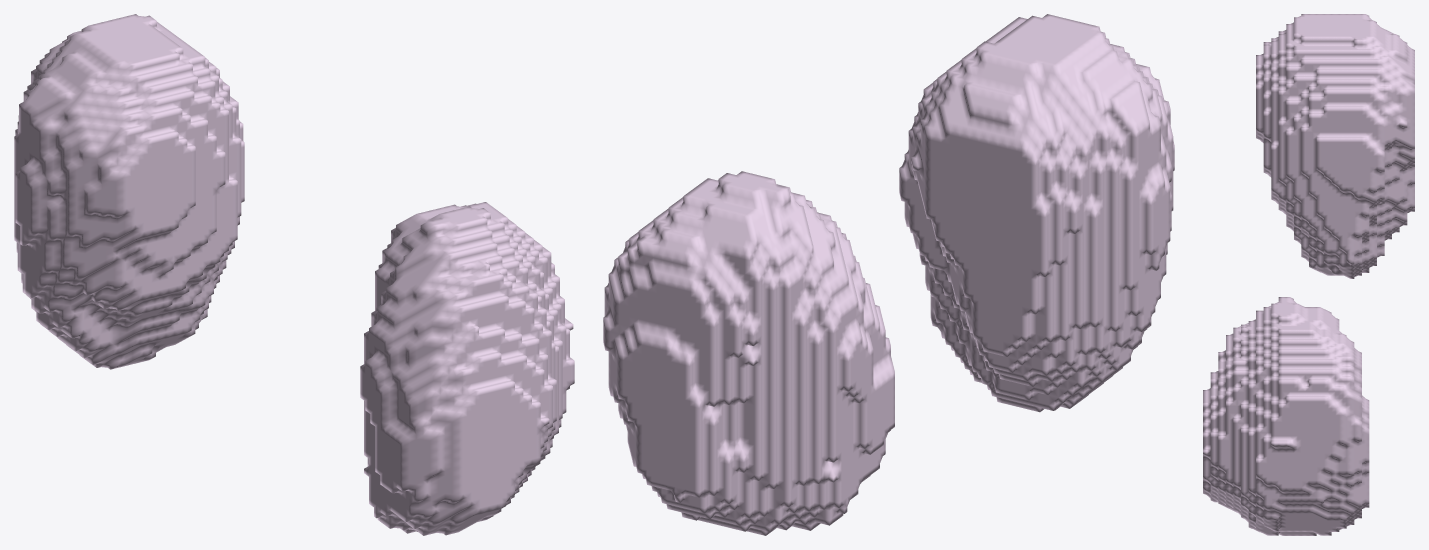
Rendered from region-14.glb.
The picture shows the model from 3 angles, left to right: view 1: azimuth 30°, elevation 25°; view 2: azimuth 150°, elevation 25°; view 3: azimuth 270°, elevation 25°; orthographic projection. The views are drawn at different scales.
Parts seen in each view (by area): view 1: digimouse-volume:14; view 2: digimouse-volume:14; view 3: digimouse-volume:14.
Boxes of the visible parts, box(x1,y1,x2,y2) form: digimouse-volume:14: box(14, 14, 574, 535); digimouse-volume:14: box(603, 14, 1174, 535); digimouse-volume:14: box(1203, 14, 1414, 535).
Size of the model in its own units: 0.0118 by 0.0116 by 0.0056.
